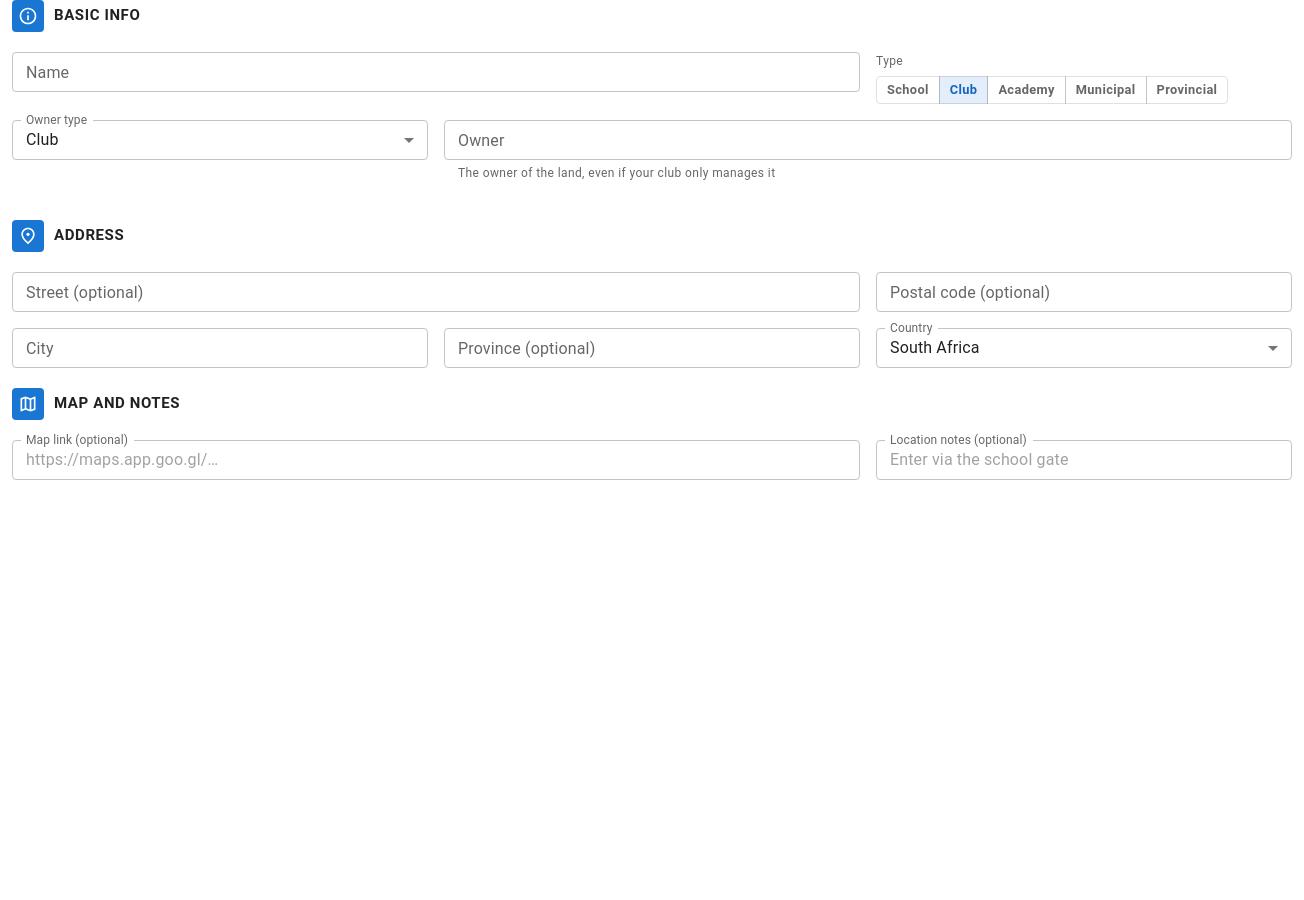
Scenario: FieldFormFields › Did you mean › hides the suggestions when the manager says it is a different field
Type "Riverside Oval" into the field labelled "Name" at (436, 72), box [12,52,860,92]
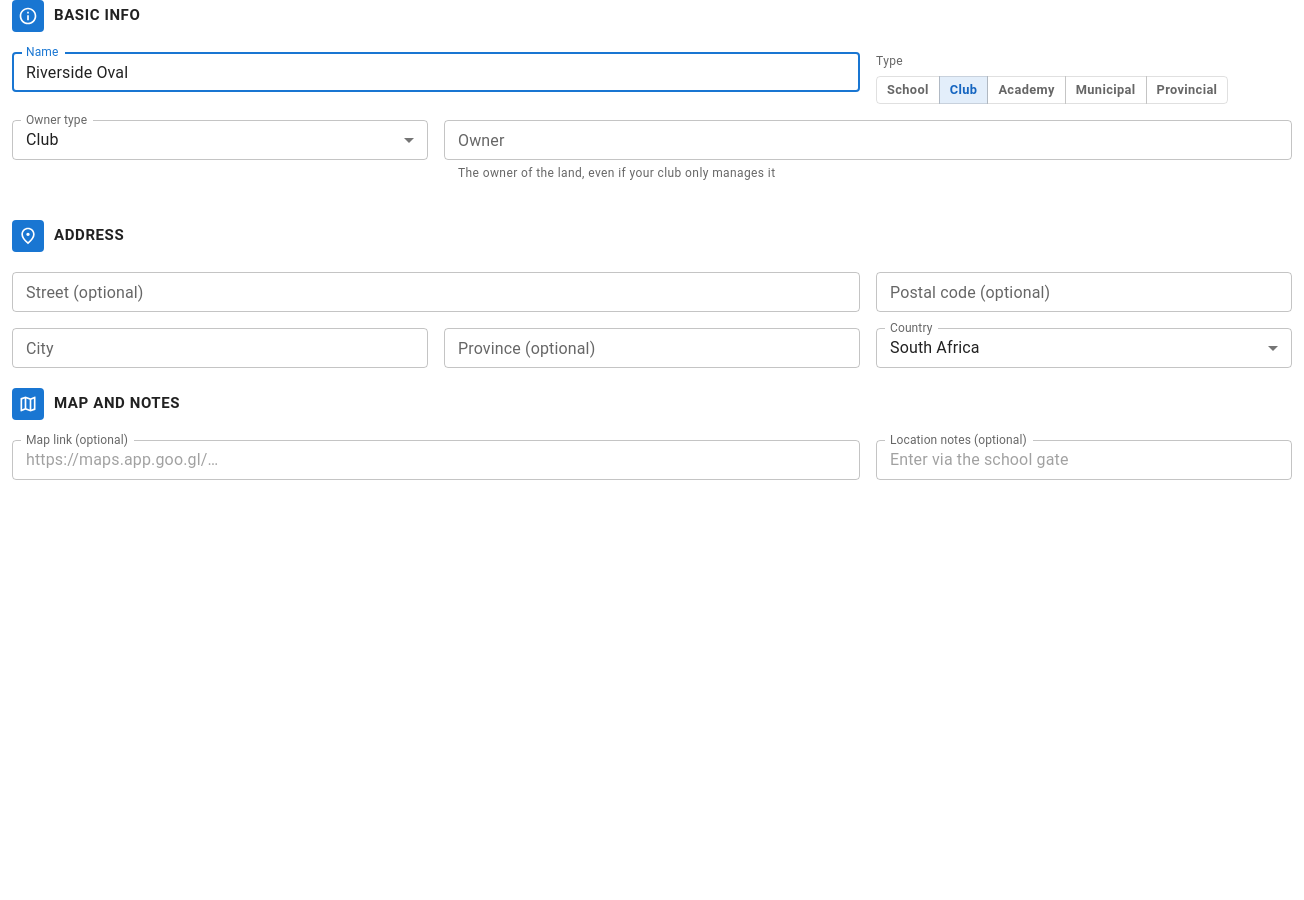
Type "Hilton" into the field labelled "City" at (220, 348), box [12,328,428,368]
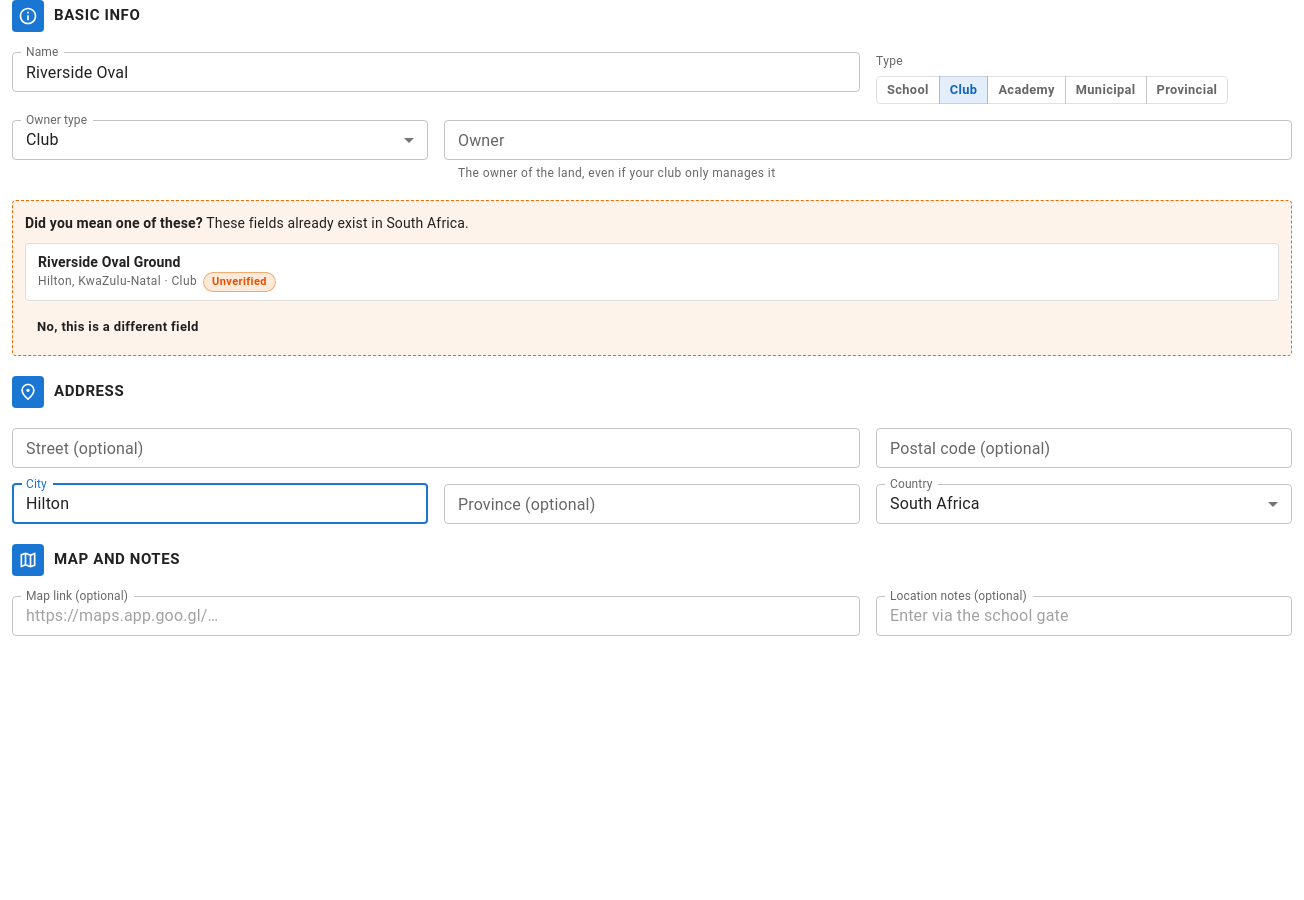
Result: the element "Did you mean" is shown at [12,200,1292,356]
Click the button "No, this is a different field" at (118, 327), box [25,311,211,343]
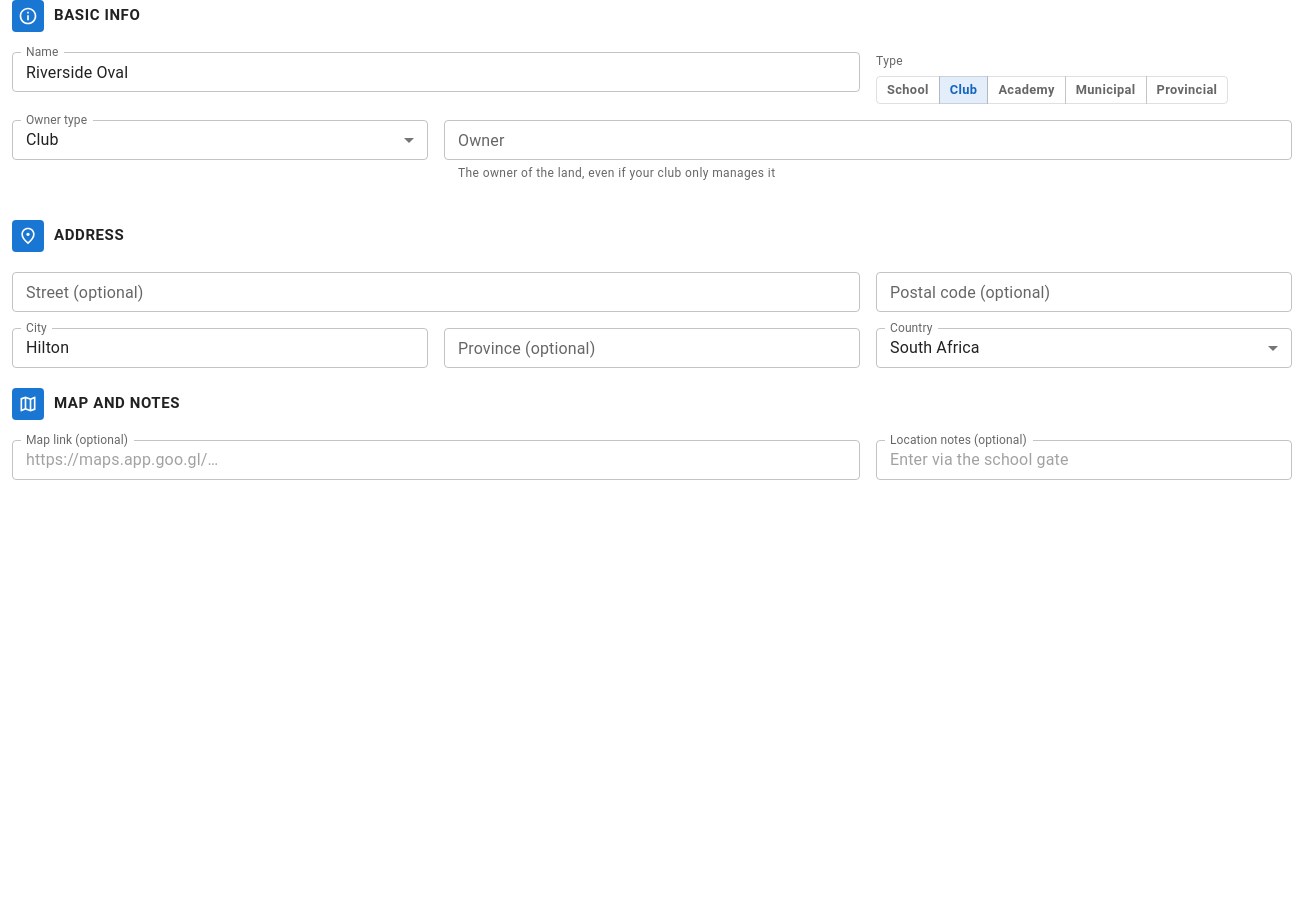
Result: the text "Did you mean" is gone
